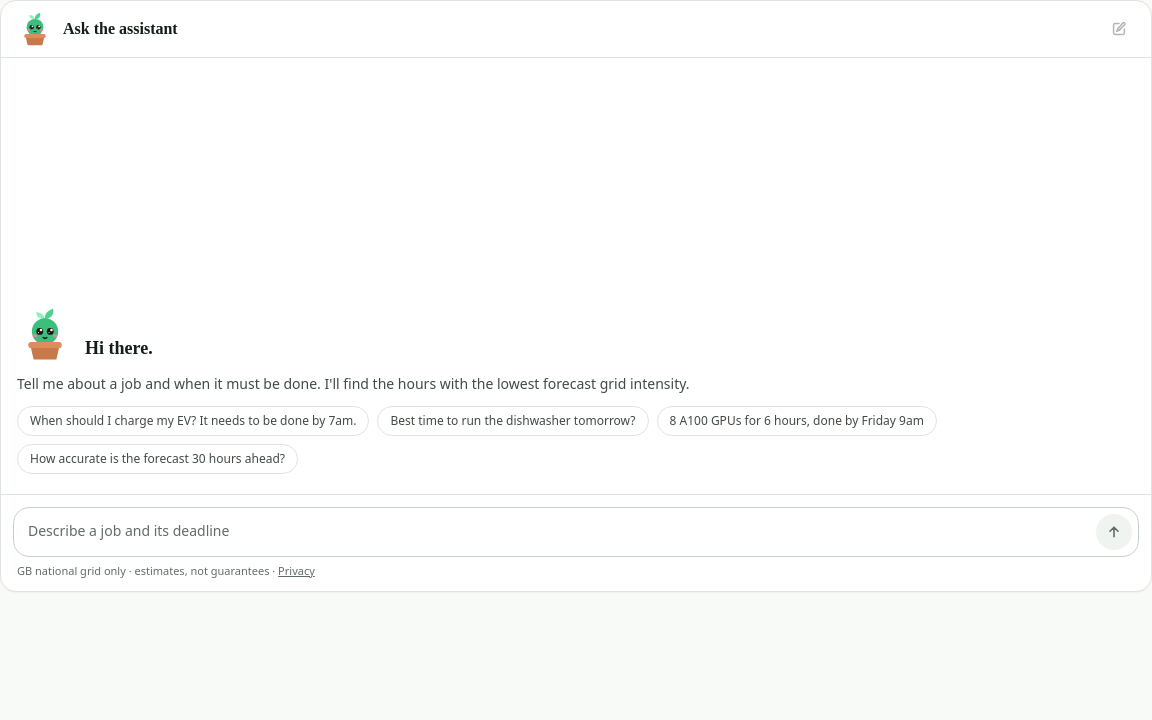
Test case: chat actions › reminder_set shows the London time, plan_saved links to Settings (actions may precede the answer)
Type "go" into the text box named "Message to the assistant". click: (558, 532)
box: [28,514,1088,550]
Then press Enter
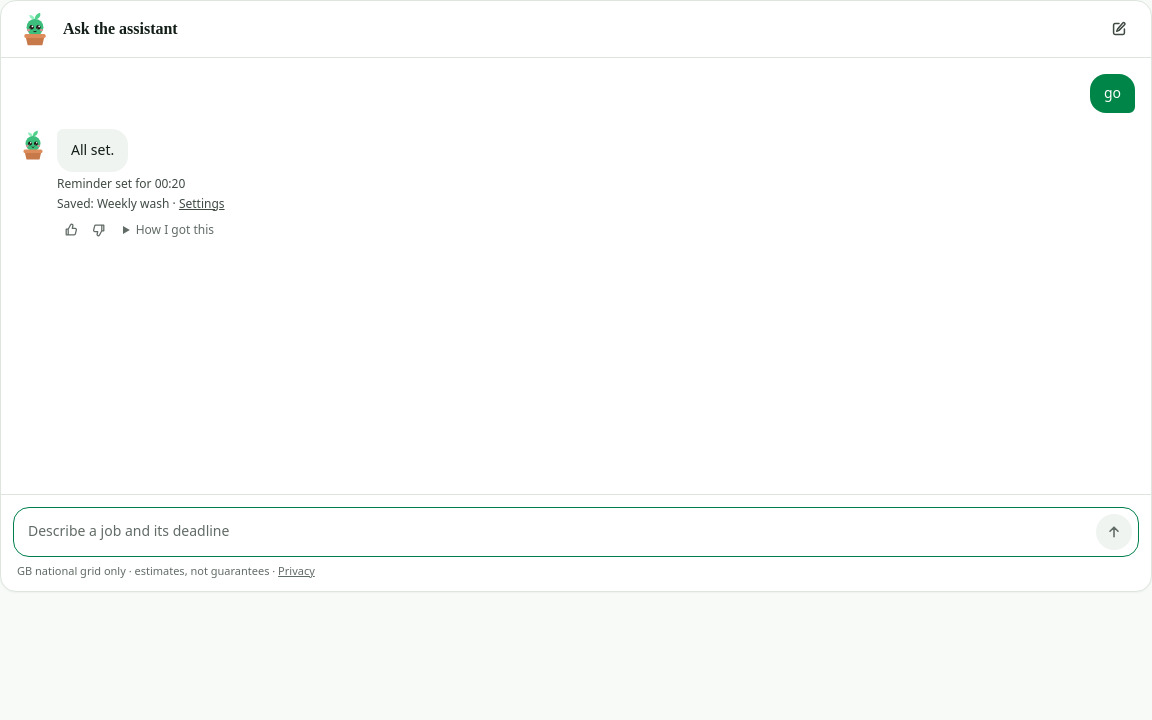
Now the text "All set." is shown, box [71,139,114,162]
Now the text "Reminder set for 00:20" is shown, box [57,176,185,192]
Now the text "Saved: Weekly wash · Settings" is shown, box [57,196,225,212]
